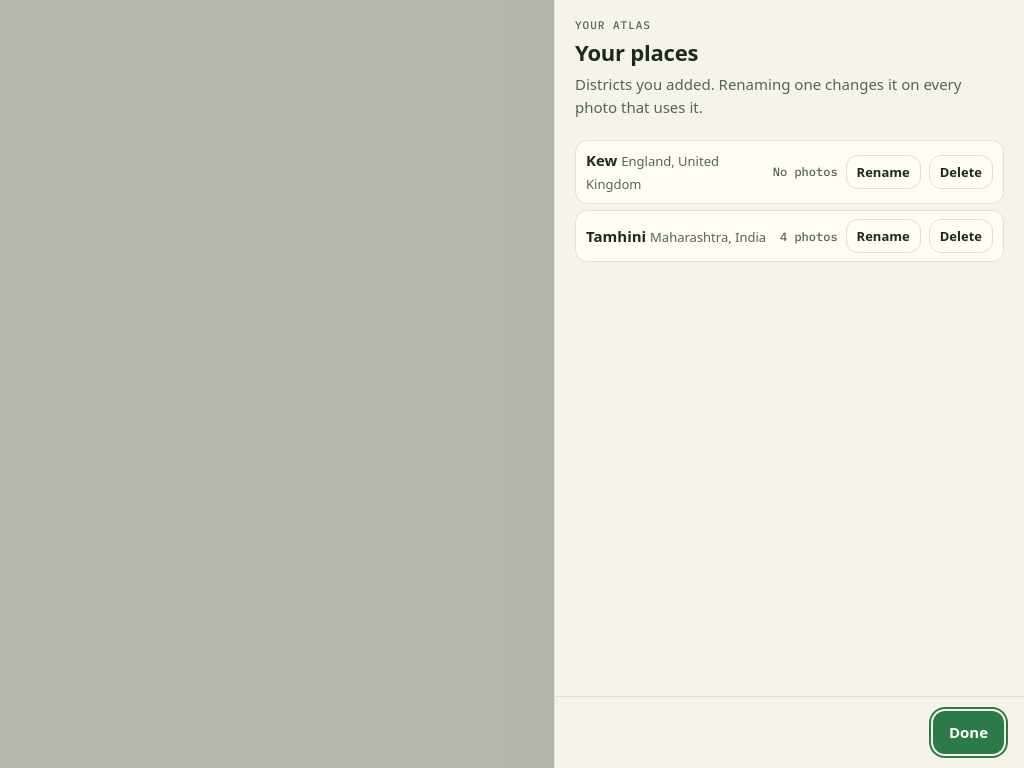
Test: Rename waits while a change is being saved
Expected: the text "Tamhini" is shown, [586,226,650,246]
Click the button with aria-label "Delete Kew" at (961, 172), box [929,155,993,189]
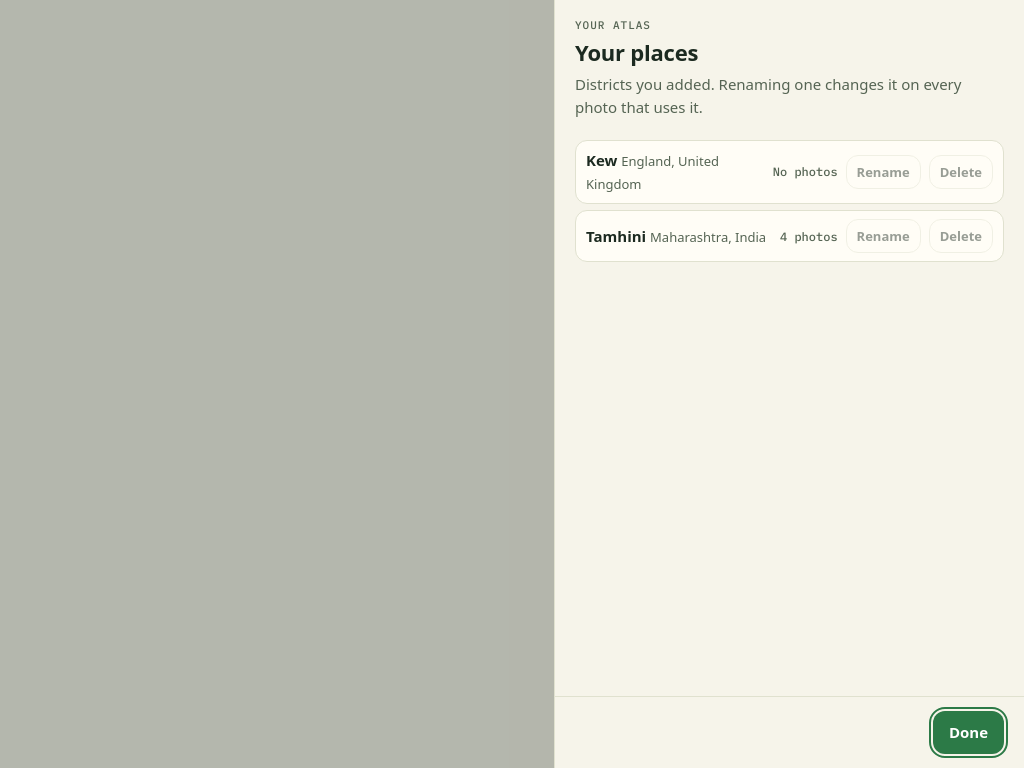
Expected: the button with aria-label "Rename Tamhini" is disabled
Click the button with aria-label "Rename Tamhini" at (883, 236), box [846,219,921,253]
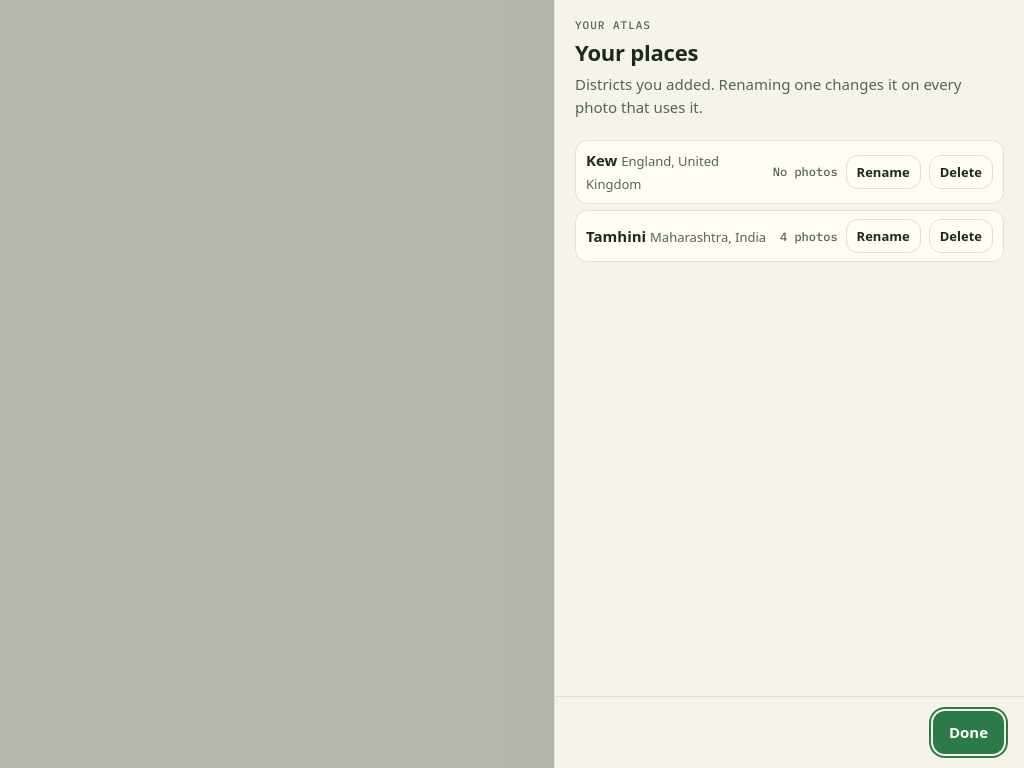
Expected: the button with aria-label "Rename Tamhini" is enabled
Click the button with aria-label "Rename Tamhini" at (883, 236), box [846,219,921,253]
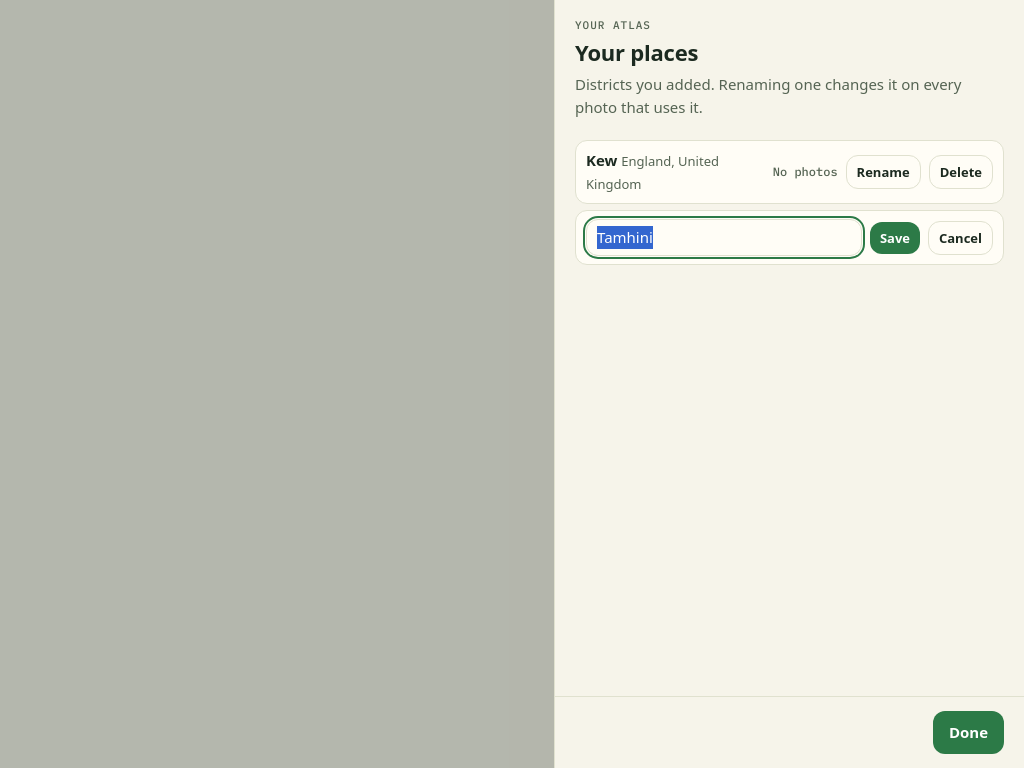
Expected: the field named "New name for Tamhini" is shown, [586,219,862,256]
